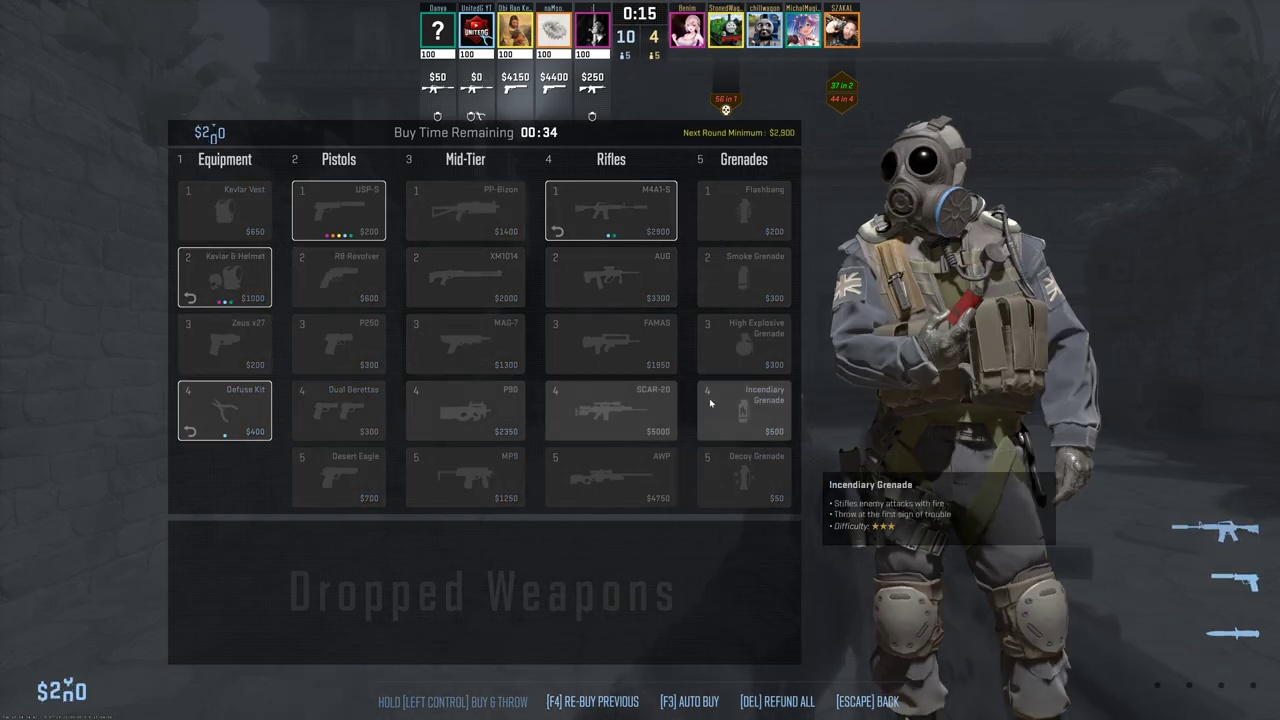CT: (860, 123, 1071, 720)
